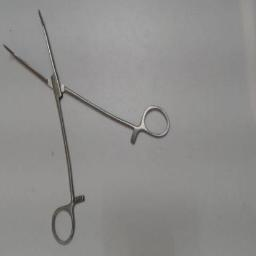Lahey Forceps: (1, 5, 173, 247)
